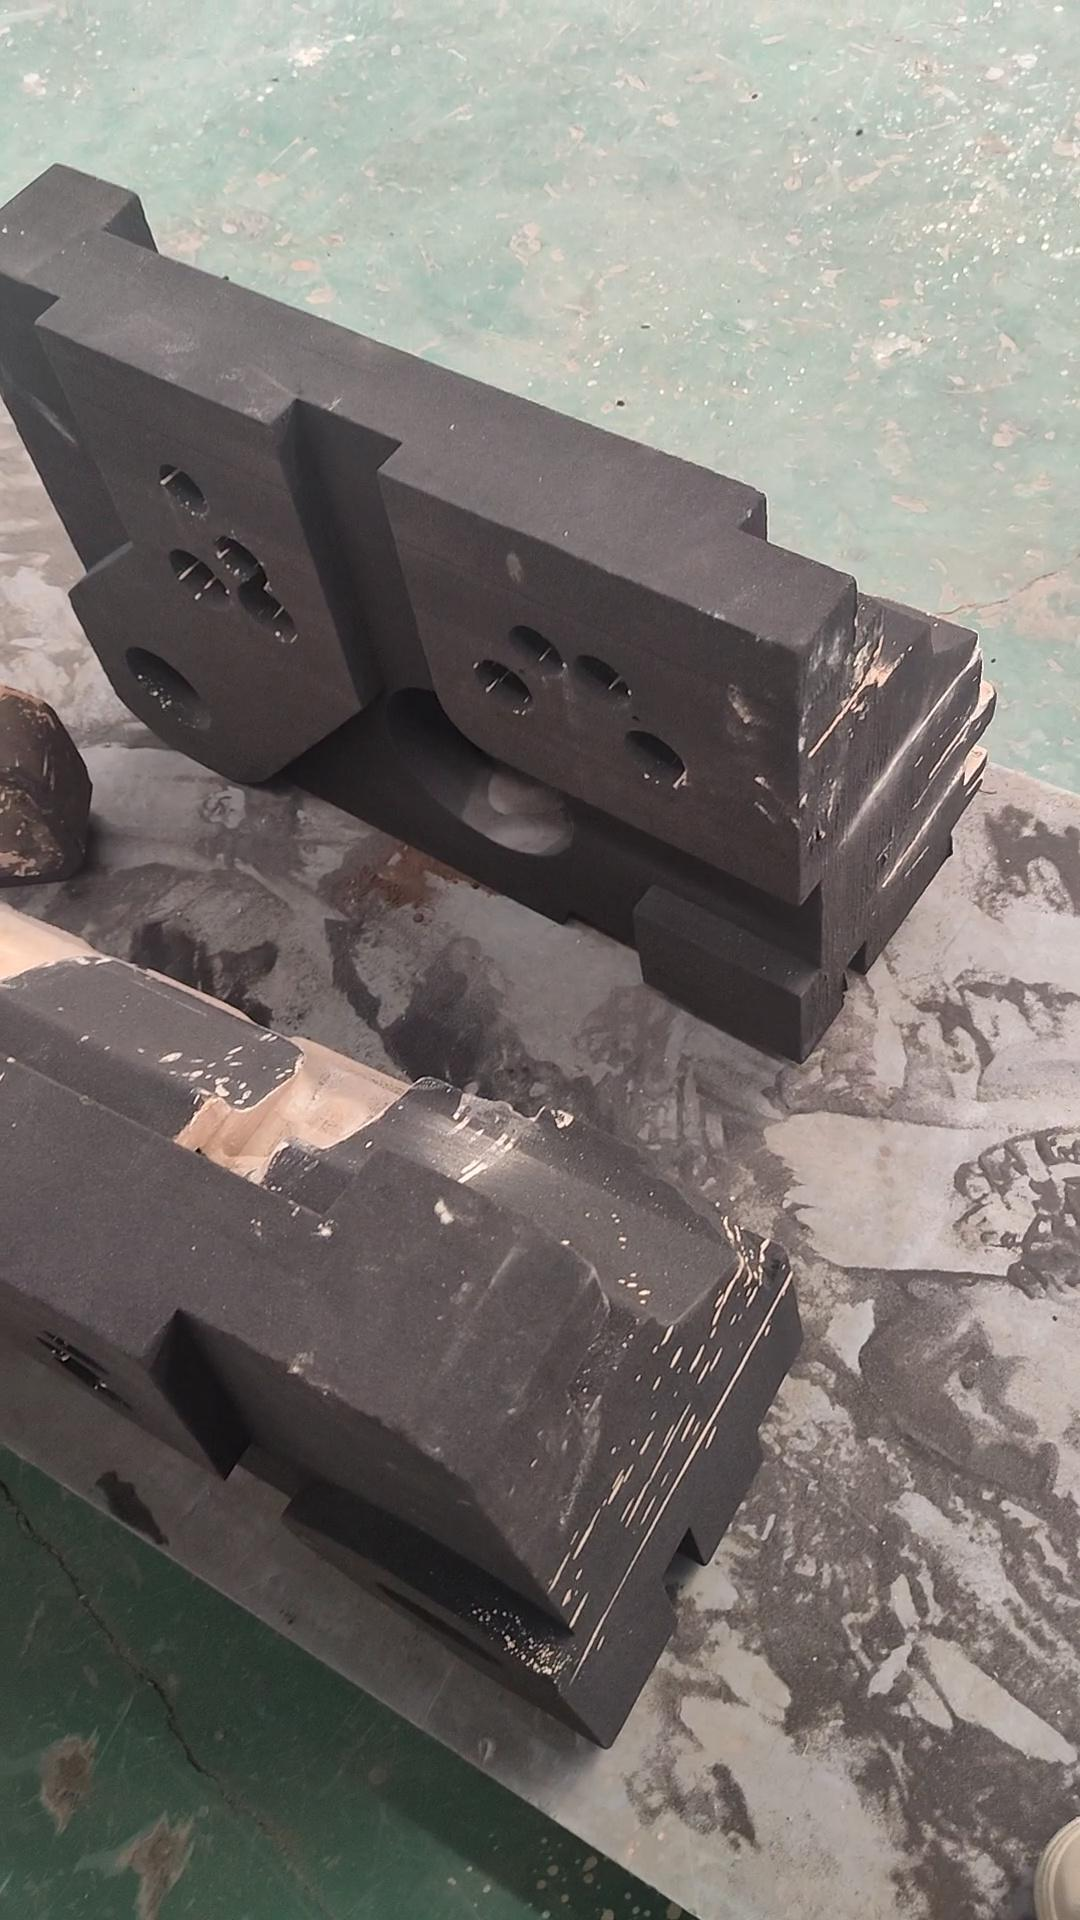pouring hole: (371, 1584, 502, 1669), (121, 647, 214, 735)
